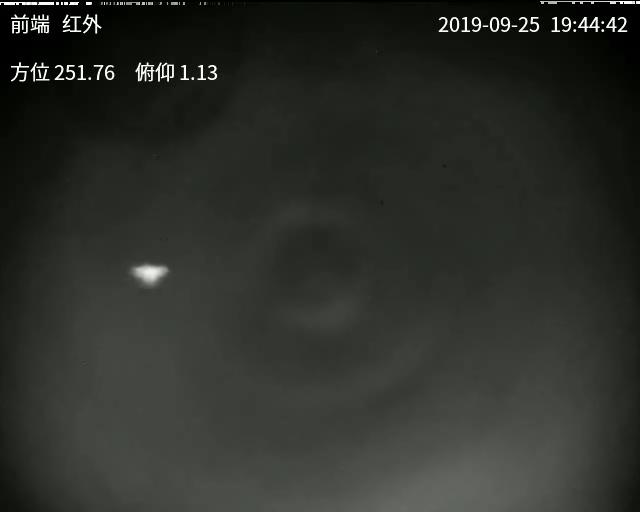uav: (123, 262, 169, 287)
